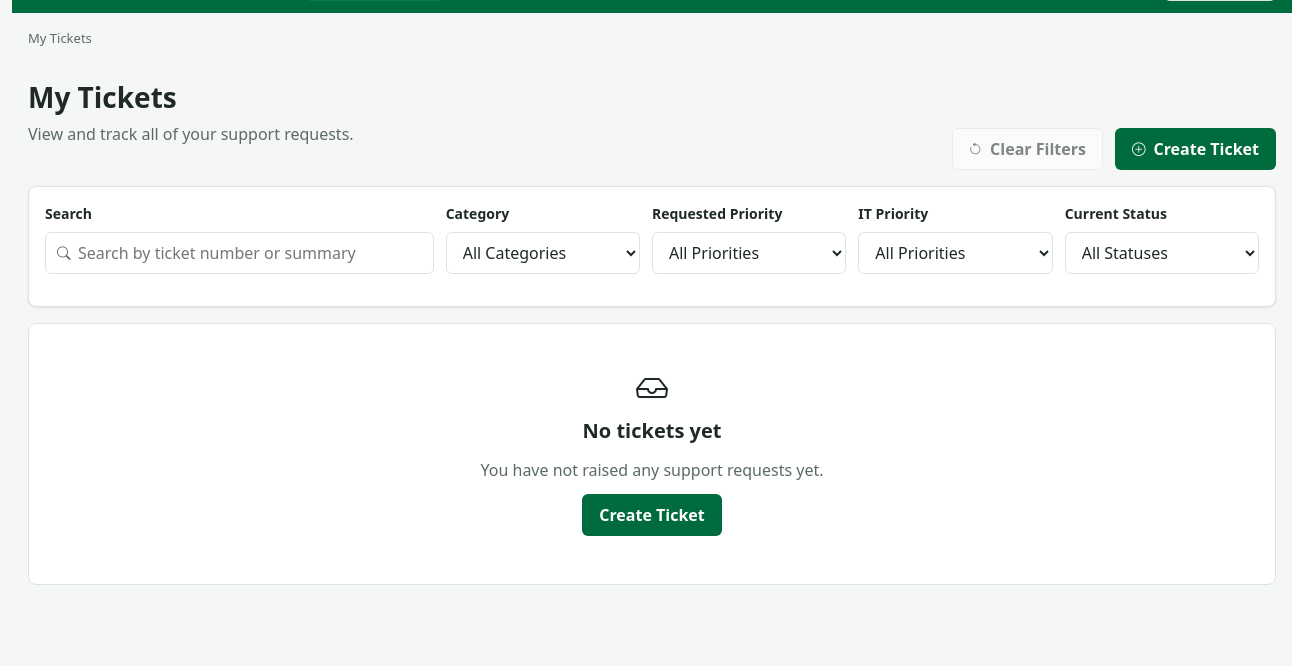
UI-17 My Tickets reads URL filters › writes a changed filter back to the address
The width and height of the screenshot is (1292, 666).
Step 1. Select "Closed" in the dropdown labelled "Current Status" → (1162, 253), box [1065, 232, 1259, 274]
(page scrolled)
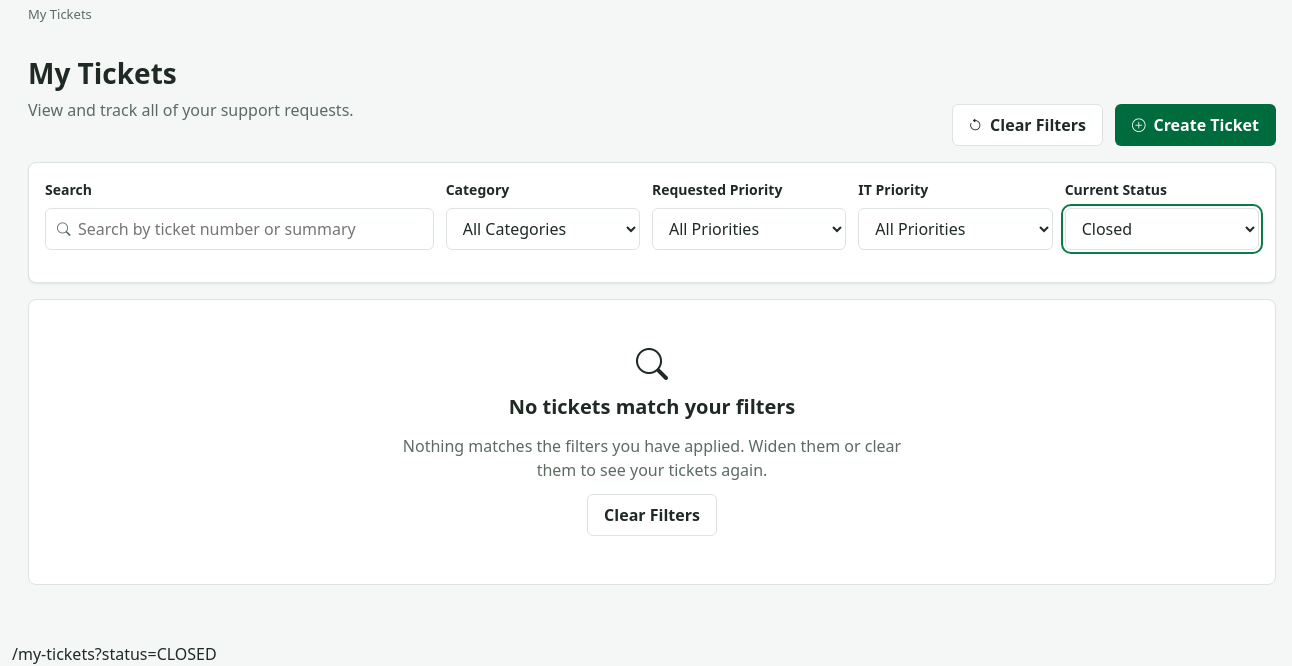
Check: the text with test id "where" reads "/my-tickets?status=CLOSED", box [12, 643, 217, 665]
